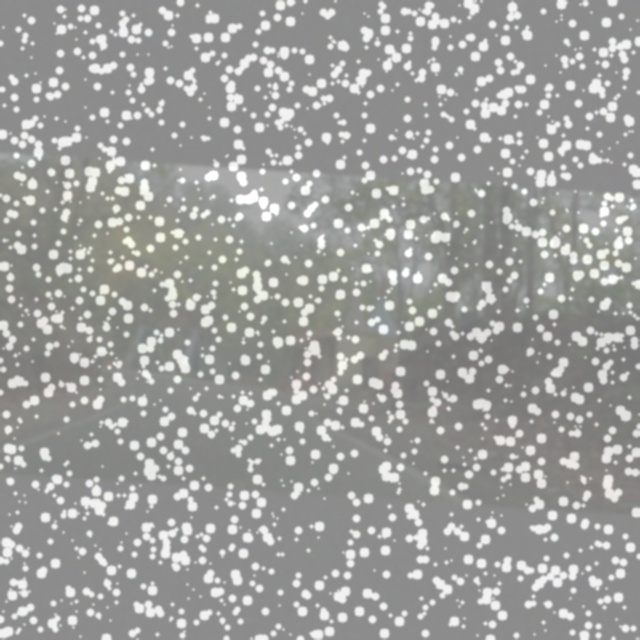Speed_Limit_20: (95, 329, 114, 349)
